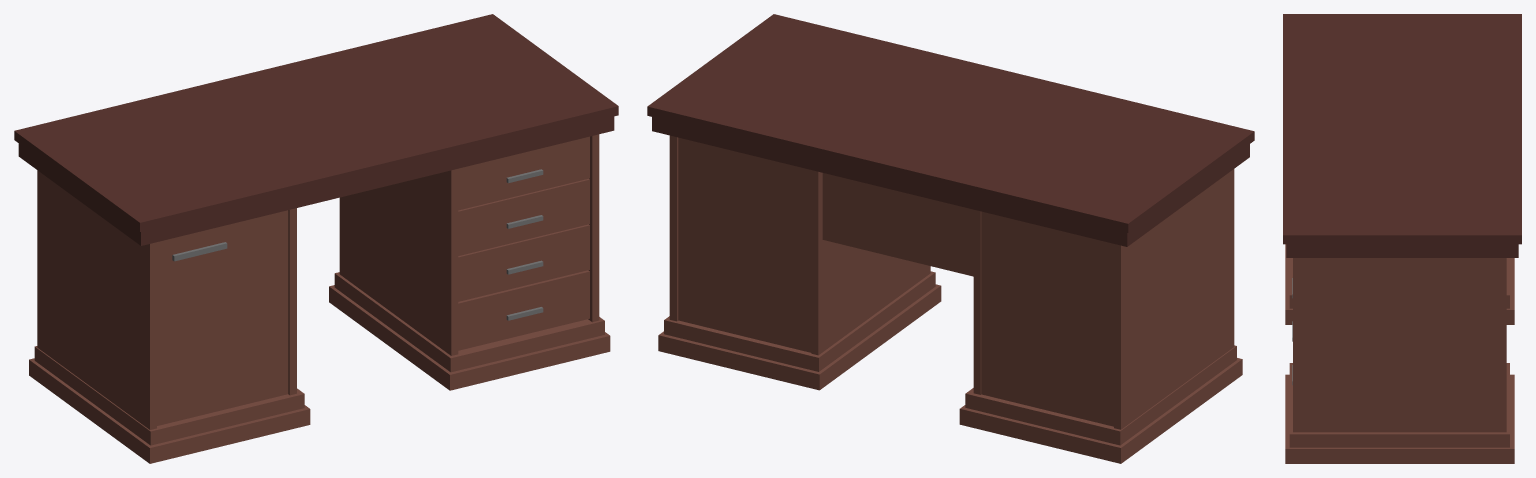
File: office_table_005.glb
3 views of the same model, side by side, from view 1: azimuth 30°, elevation 25°; view 2: azimuth 150°, elevation 25°; view 3: azimuth 270°, elevation 25° (orthographic). The views are drawn at different scales.
Parts seen in each view (by area): view 1: office_table_005; view 2: office_table_005; view 3: office_table_005.
Boxes of the visible parts, x1,y1,x2,y2 form: office_table_005: [14, 14, 618, 463]; office_table_005: [647, 14, 1254, 463]; office_table_005: [1283, 14, 1521, 463].
Bounding box in the file's own units: 1.49 × 0.7257 × 0.677.
Materials: 1 (1 with a texture image).
